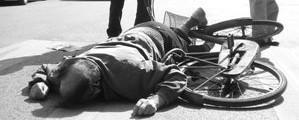Fall-Detected: (11, 1, 217, 117)
